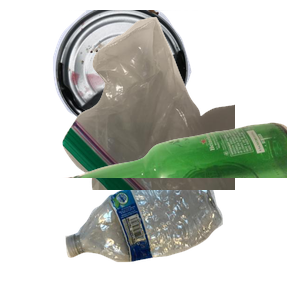glass: (60, 120, 300, 300)
metal: (50, 10, 262, 140)
plastic: (63, 170, 278, 300)
trash: (60, 14, 300, 194)
